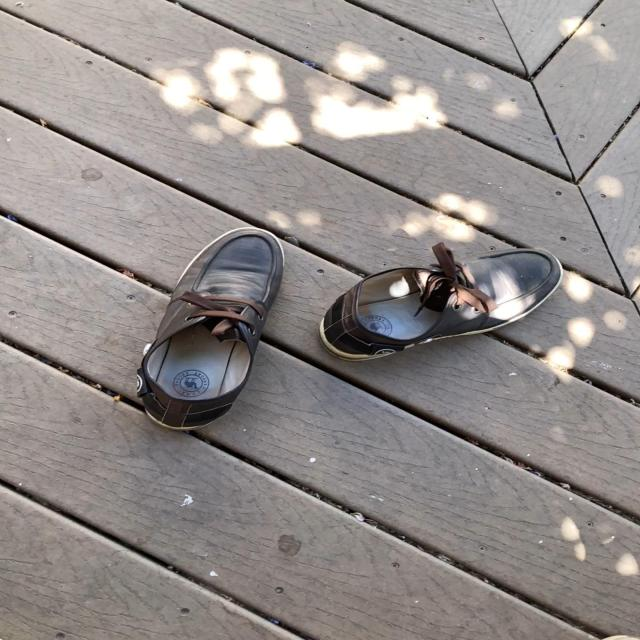shoe: (136, 231, 284, 433), (319, 247, 563, 361)
